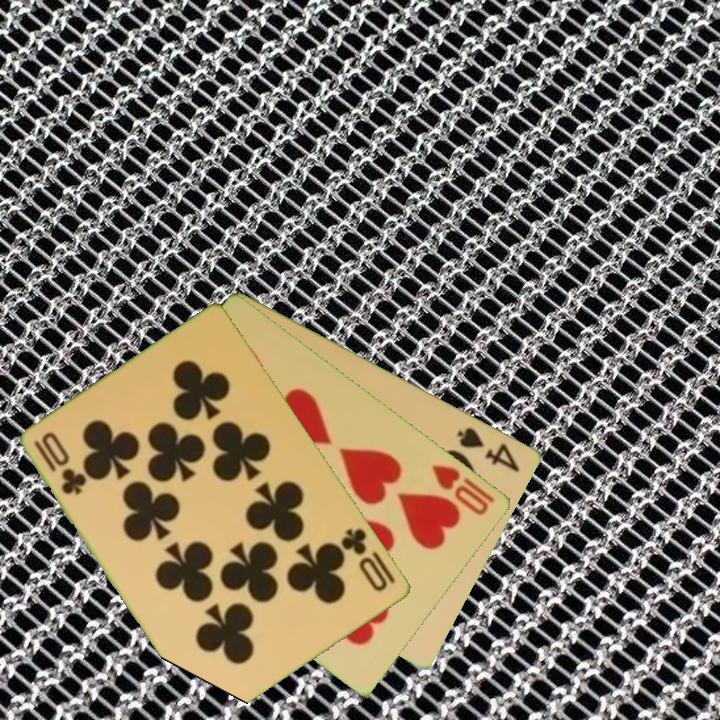10c: (337, 524, 391, 595), (30, 436, 90, 498)
10h: (429, 460, 492, 518)
4s: (453, 423, 523, 475)
